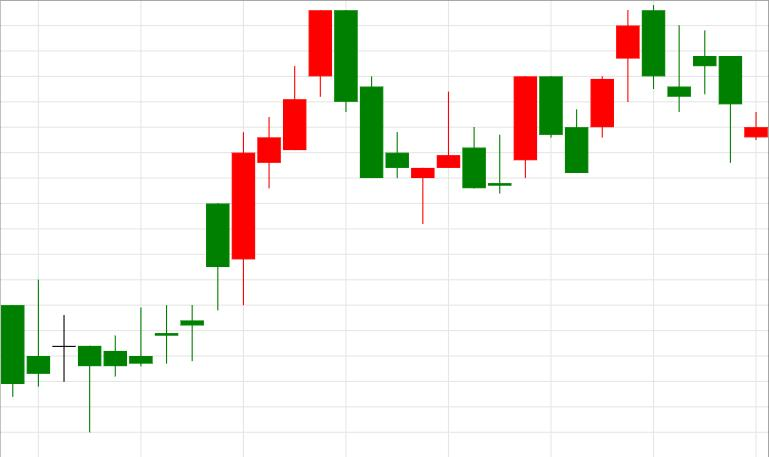bearish_engulfing_fall: (233, 9, 358, 306)
